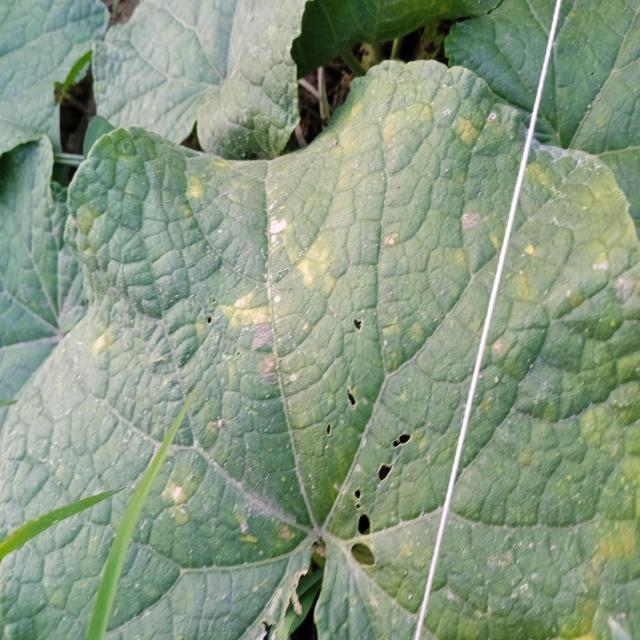cucumber_downy: (91, 131, 514, 538)
